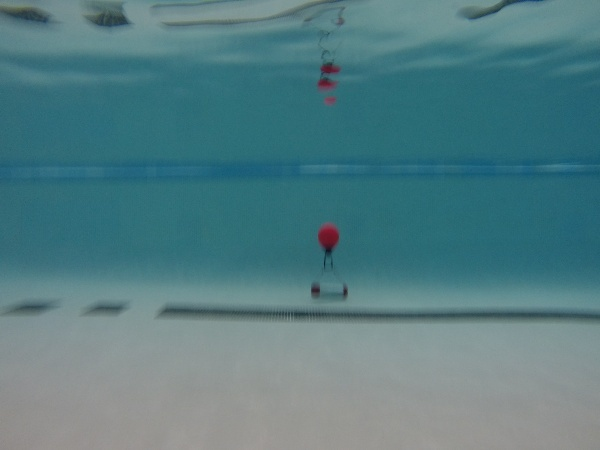buoy_red: (315, 222, 341, 254)
